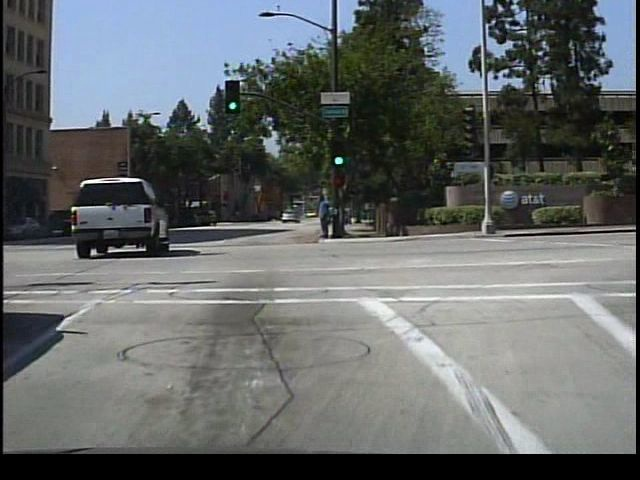person: (313, 188, 335, 239), (318, 193, 336, 238)
